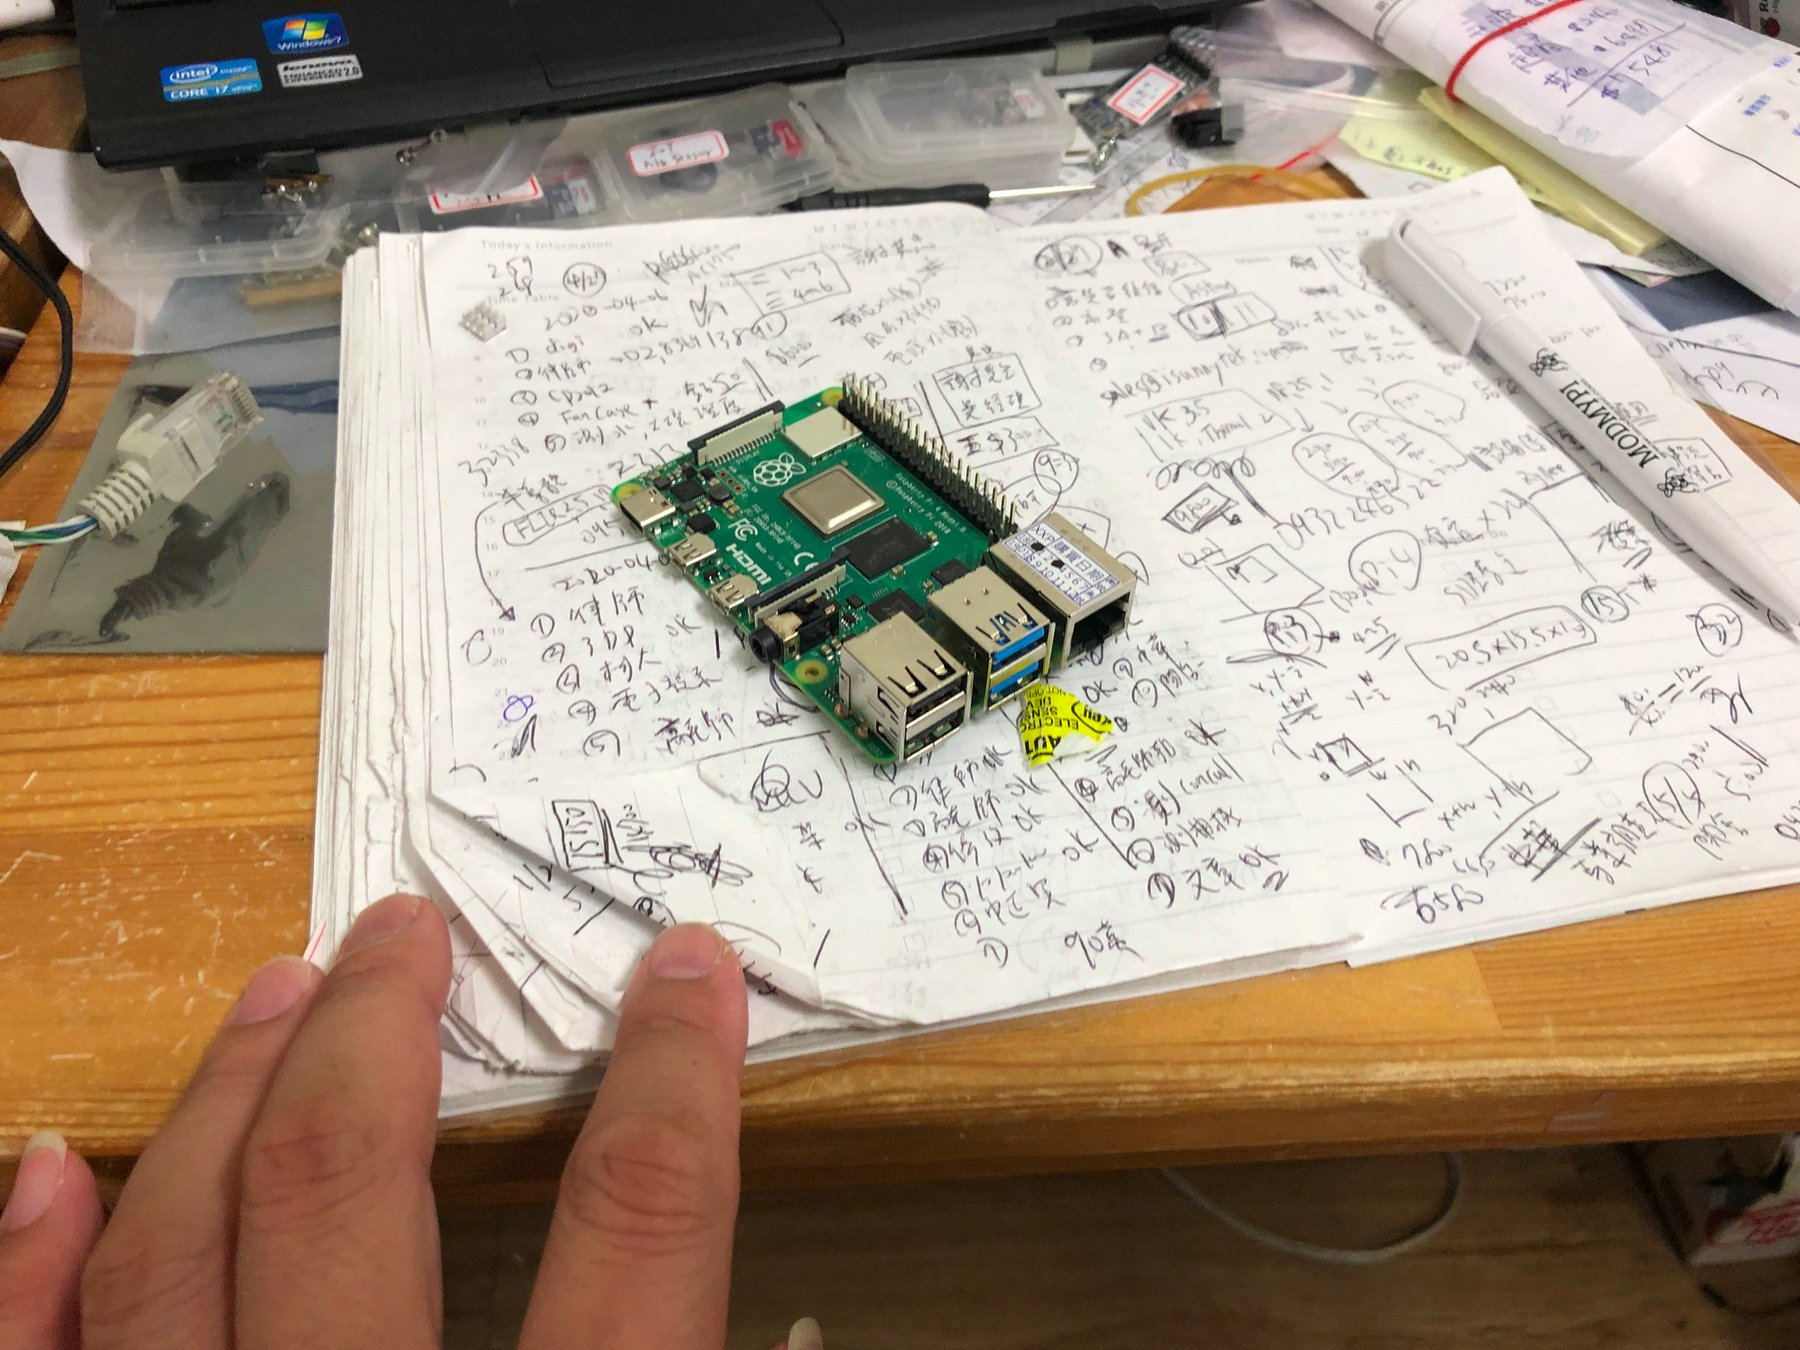pi: (604, 366, 1140, 786)
